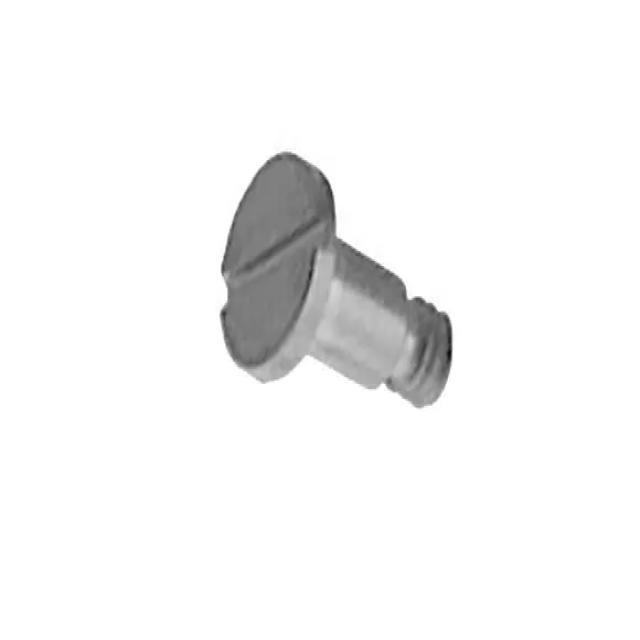duz: (218, 150, 338, 384)
